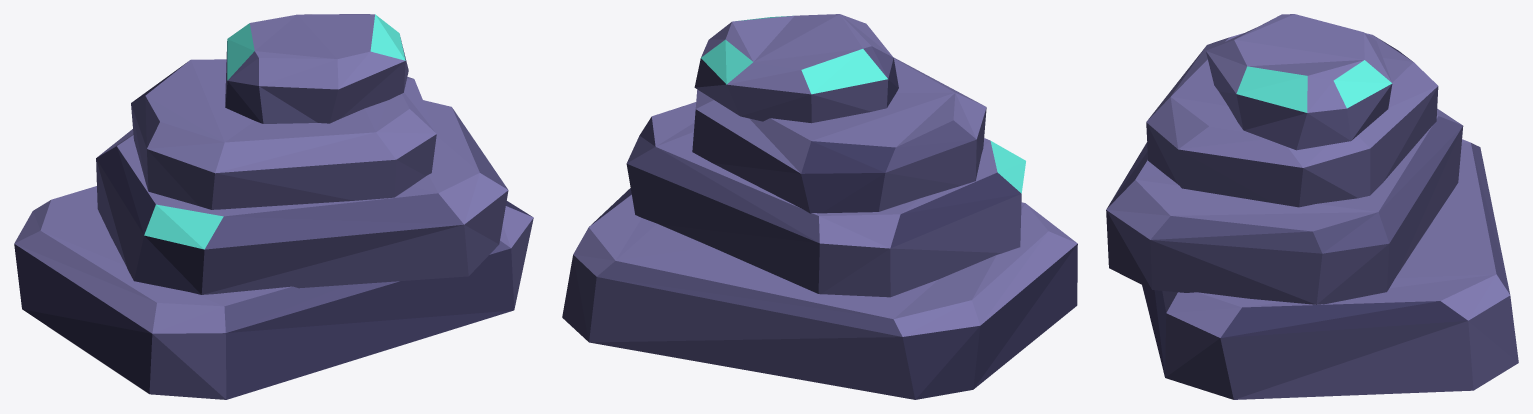
File: rock_slab_stack_deep.fbx
3 views of the same model, side by side, from view 1: azimuth 30°, elevation 25°; view 2: azimuth 150°, elevation 25°; view 3: azimuth 270°, elevation 25° (orthographic). The views are drawn at different scales.
Parts seen in each view (by area): view 1: rock_slab_stack_deep; view 2: rock_slab_stack_deep; view 3: rock_slab_stack_deep.
Boxes of the visible parts, x1,y1,x2,y2 form: rock_slab_stack_deep: [14, 14, 533, 399]; rock_slab_stack_deep: [562, 14, 1077, 399]; rock_slab_stack_deep: [1106, 14, 1518, 399].
Bounding box in the file's own units: 1288 × 769 × 1067.
1 material, 1 textured.
